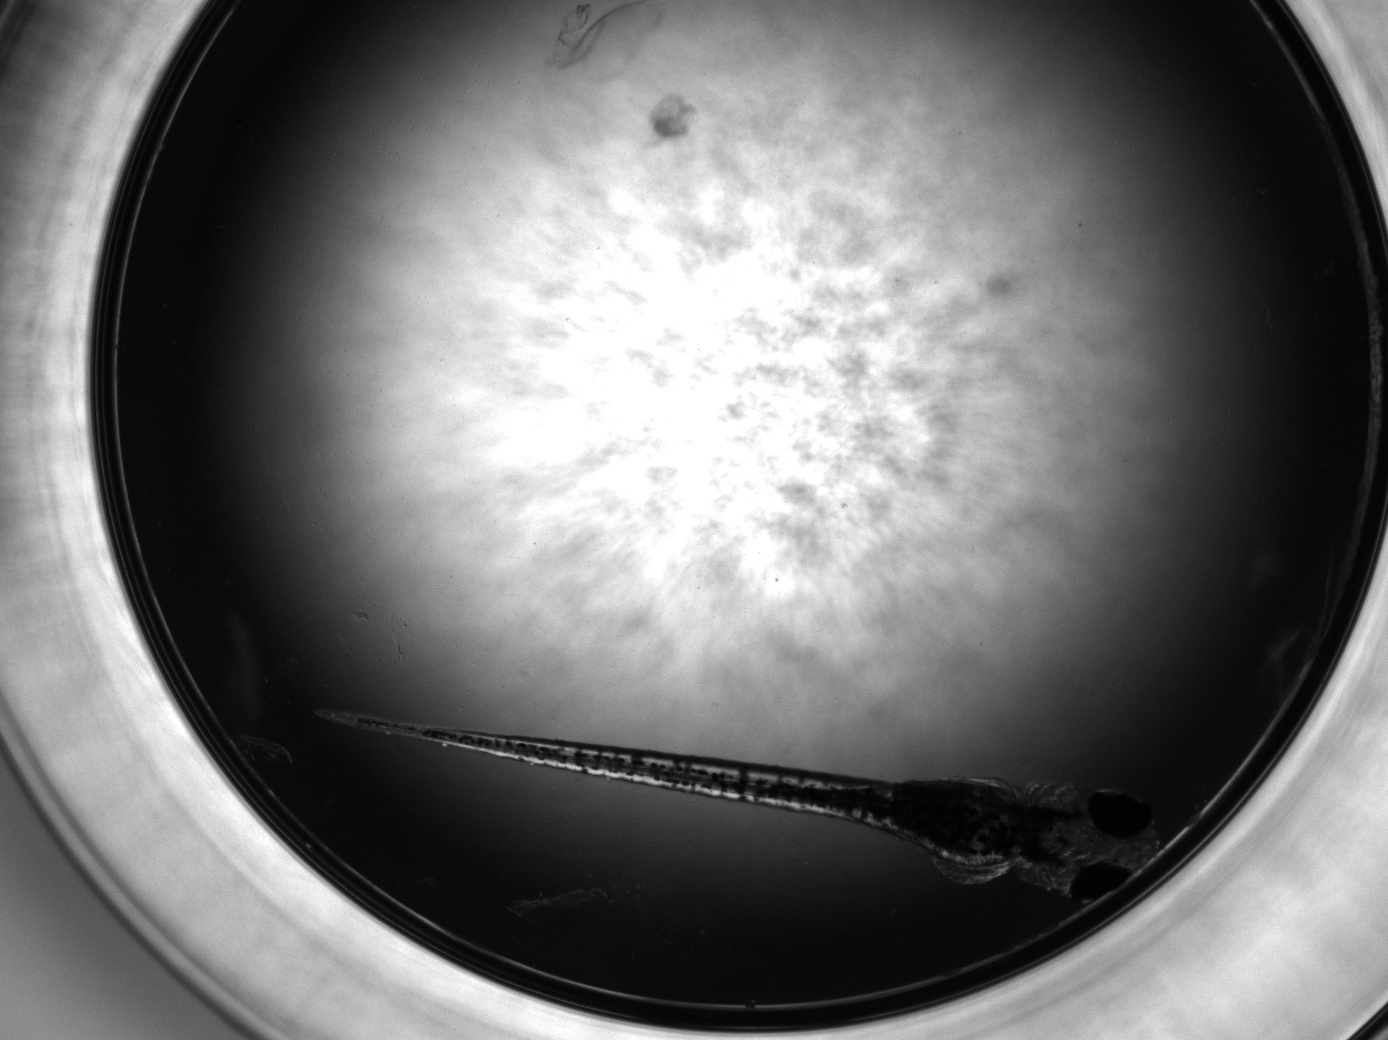embryo: (313, 709, 1163, 901)
eye: (1088, 789, 1155, 841), (1070, 862, 1134, 902)
yolksac: (881, 775, 1030, 867)
